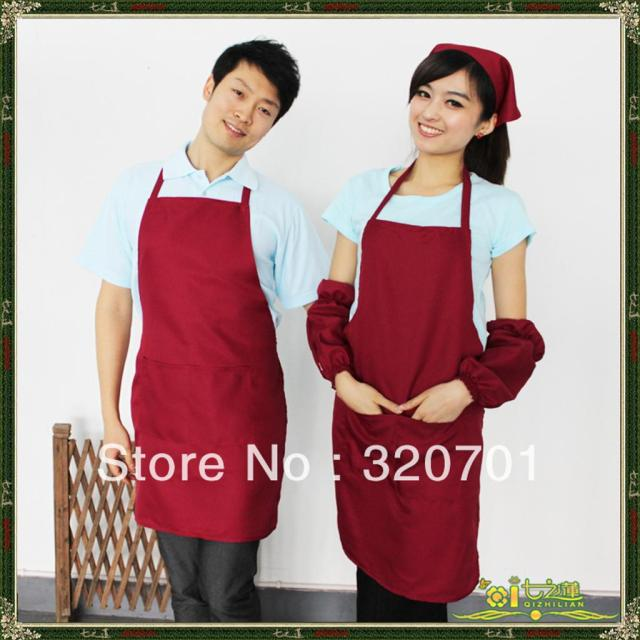Face: (195, 59, 292, 153), (410, 68, 483, 155)
